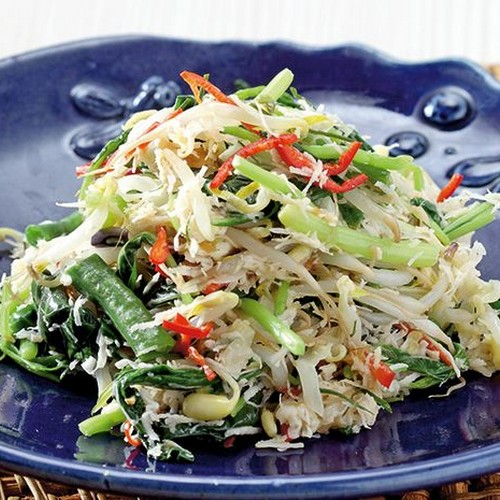jukut urap: (36, 74, 463, 440)
